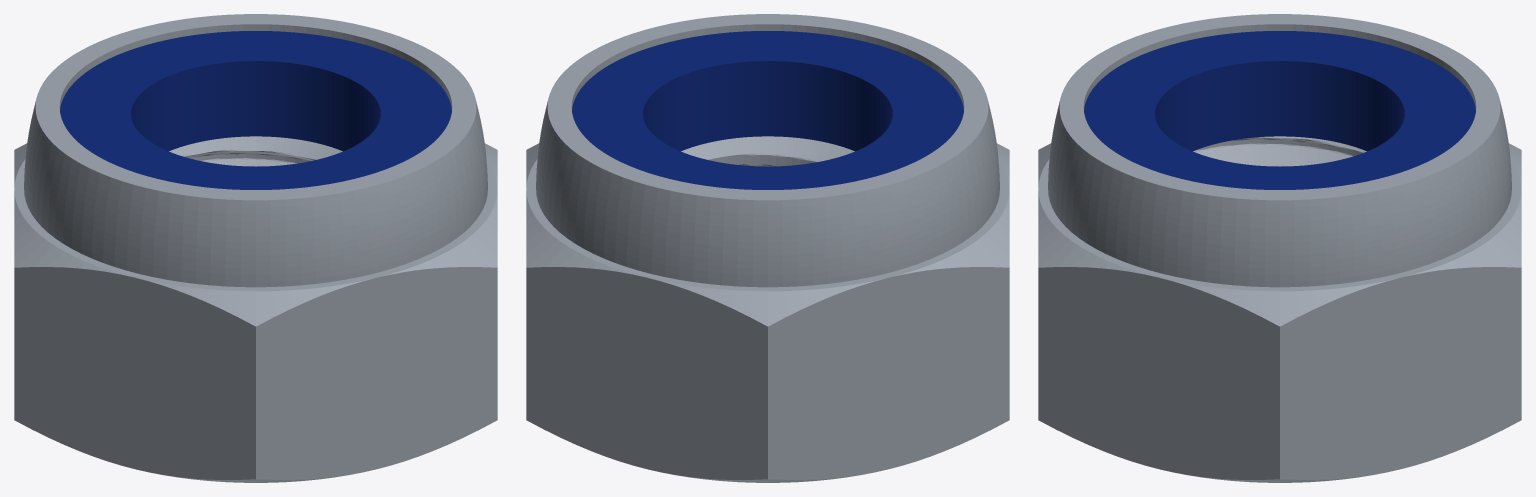
Rendered from model_full.glb.
3 renders of one model, left to right at view 1: azimuth 30°, elevation 25°; view 2: azimuth 150°, elevation 25°; view 3: azimuth 270°, elevation 25°, orthographic.
Parts seen in each view (by area): view 1: steel, nylon_insert; view 2: steel, nylon_insert; view 3: steel, nylon_insert.
Boxes of the visible parts, x1,y1,x2,y2 form: steel: (14,14,497,482); nylon_insert: (60,31,451,189); steel: (526,14,1009,482); nylon_insert: (572,31,963,189); steel: (1038,14,1521,482); nylon_insert: (1084,31,1475,189).
Bounding box in the file's own units: 0.00924 × 0.005 × 0.008.
